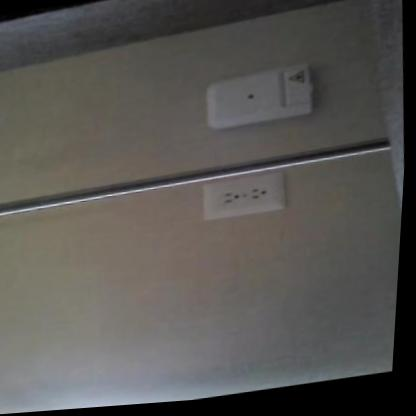OUTLET: (199, 171, 288, 222)
